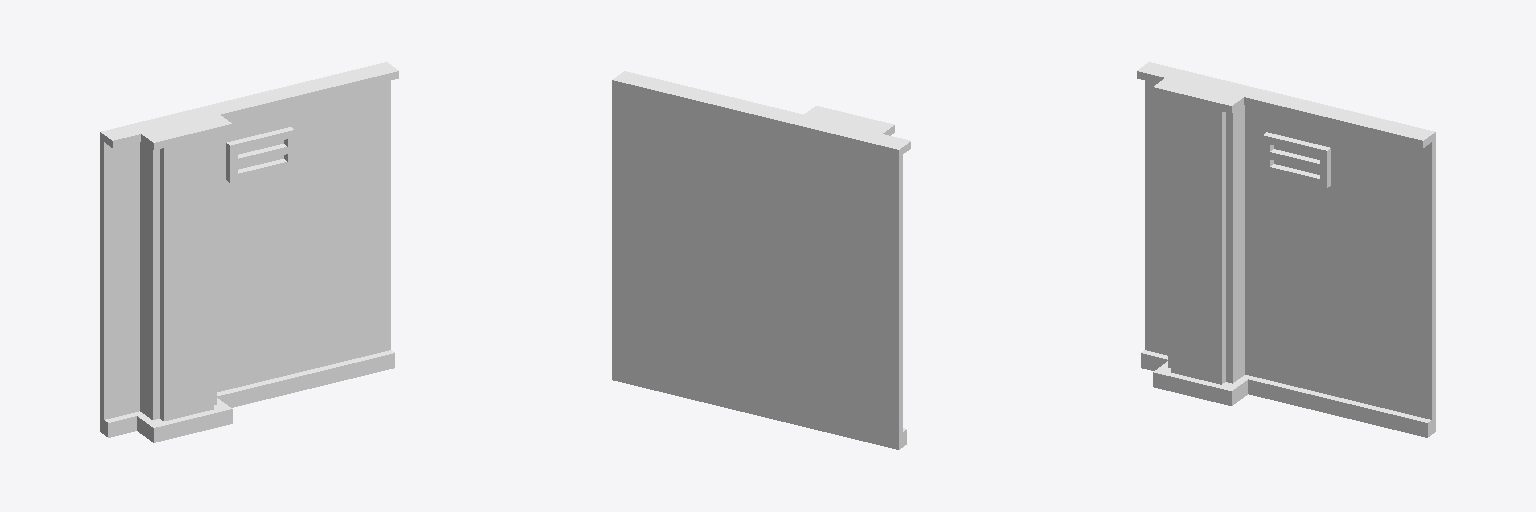
Rendered from glue_wall_b.obj.
The picture shows the model from 3 angles: view 1: azimuth 30°, elevation 25°; view 2: azimuth 150°, elevation 25°; view 3: azimuth 330°, elevation 25°; orthographic projection.
Parts seen in each view (by area): view 1: object 1; view 2: object 1; view 3: object 1.
Boxes of the visible parts, box(x1,y1,x2,y2) form: object 1: box(100, 62, 398, 442); object 1: box(612, 71, 910, 449); object 1: box(1137, 62, 1435, 437).
Bounding box in the file's own units: 4 × 4 × 0.6.